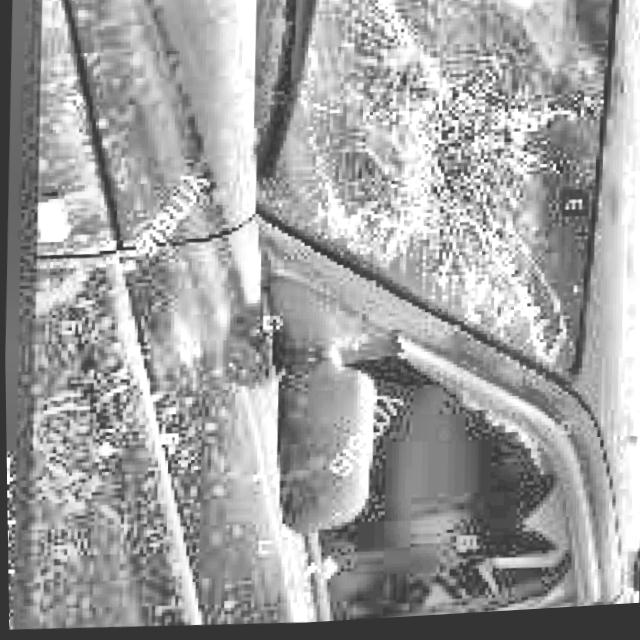glass_shatter: (347, 355, 568, 619), (345, 76, 543, 319)
